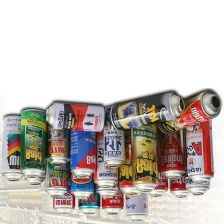aerosol_cans: (107, 89, 186, 134), (154, 86, 222, 137), (182, 107, 216, 186), (128, 117, 161, 196), (154, 113, 189, 183), (17, 104, 47, 180), (41, 99, 108, 133), (182, 123, 212, 197), (122, 148, 152, 222), (19, 118, 49, 190), (167, 122, 193, 202), (68, 115, 99, 181), (49, 144, 77, 216), (144, 120, 169, 199), (91, 123, 120, 191), (0, 112, 26, 185), (99, 149, 125, 218), (99, 110, 128, 170), (68, 139, 95, 202), (76, 151, 100, 218), (43, 114, 72, 169), (43, 140, 70, 199)
